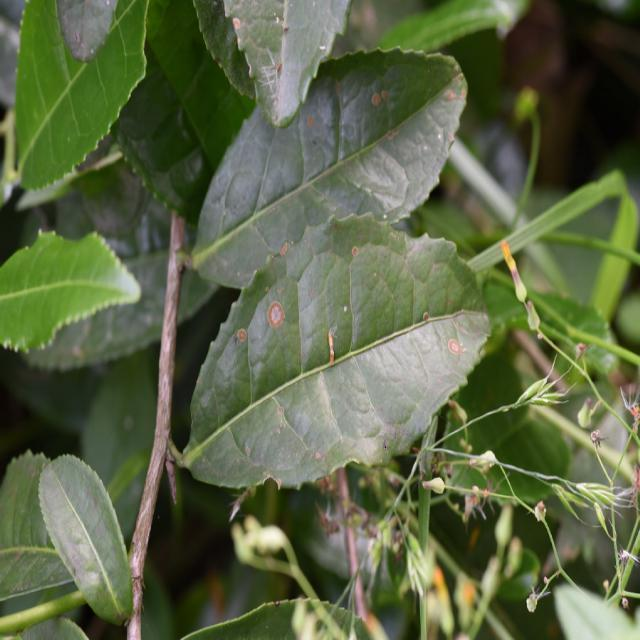Tea algae leaf spot: (242, 229, 511, 378)
